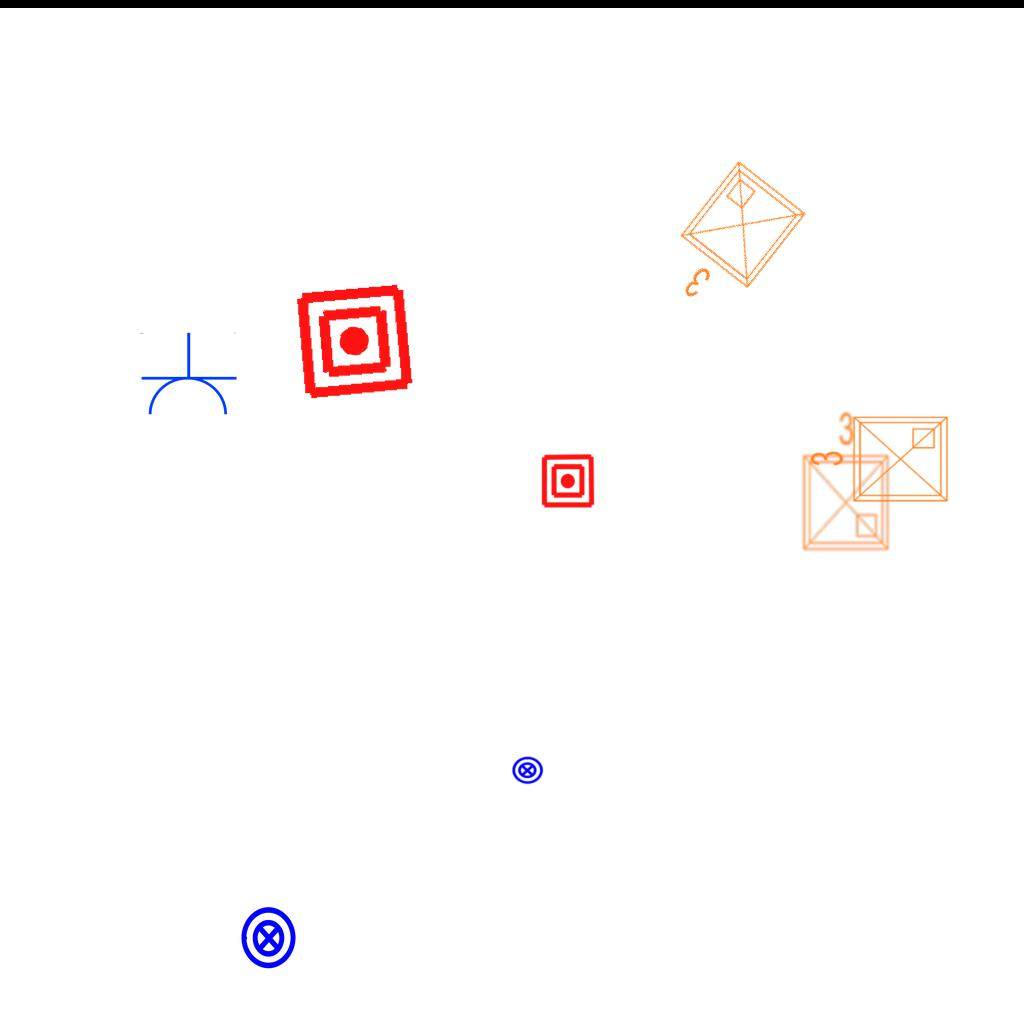Einbaudownlights_LED_Konferenzraeume: (644, 150, 820, 334), (792, 407, 896, 557), (805, 409, 955, 513)
NAM-Nichtautomatischer_Melder: (293, 280, 416, 403), (540, 453, 596, 509)
Schukosteckdose_einfach: (138, 332, 238, 419)
Taster_beleuchtet: (236, 905, 302, 971), (511, 754, 544, 787)
